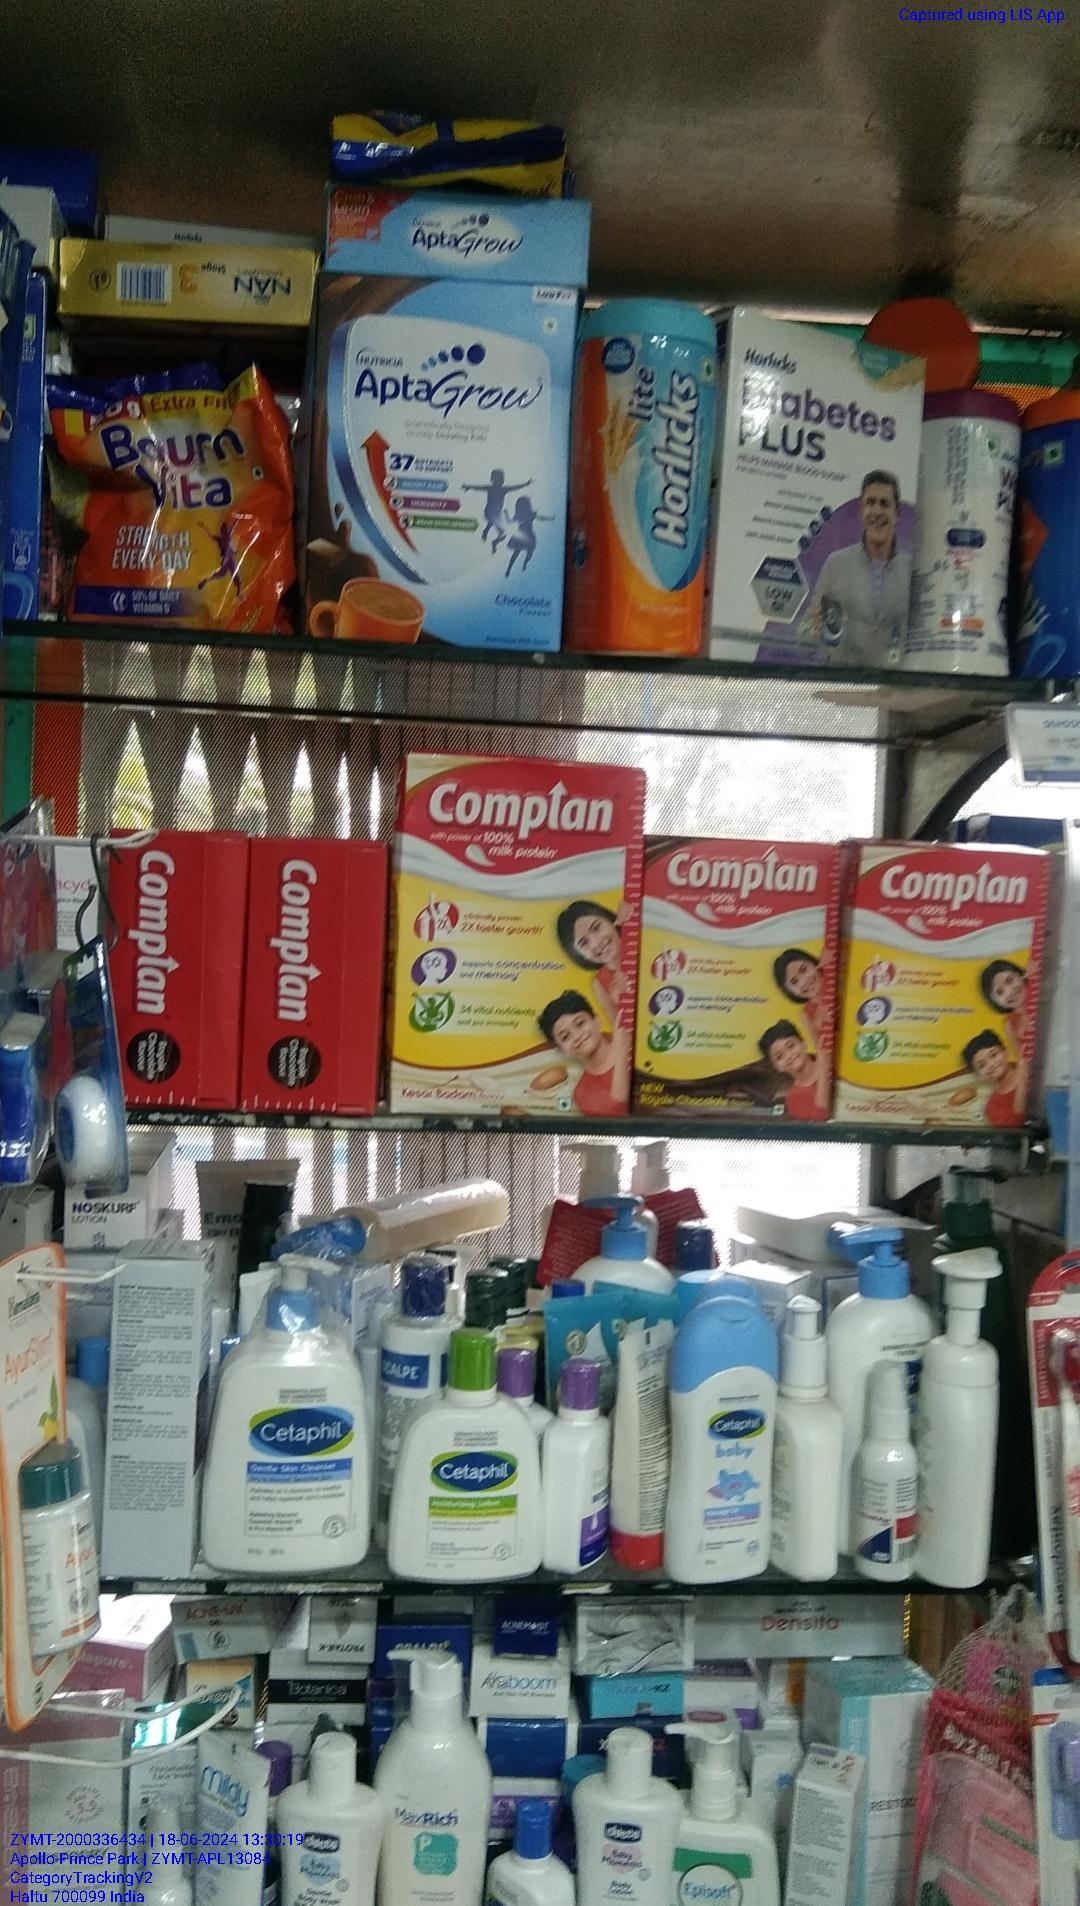COMPLAN_CHOCOLATE_200_GMS_PACK: (641, 835, 834, 1118)
COMPLAN_KESAR_BADAM_200_GMS_PACK: (842, 843, 1035, 1122)
COMPLAN_KESAR_BADAM_500_GMS_PACK: (393, 749, 631, 1106)
HORLICKS_LITE_REGULAR_MALT_500_GM_JAR: (583, 298, 711, 657)
